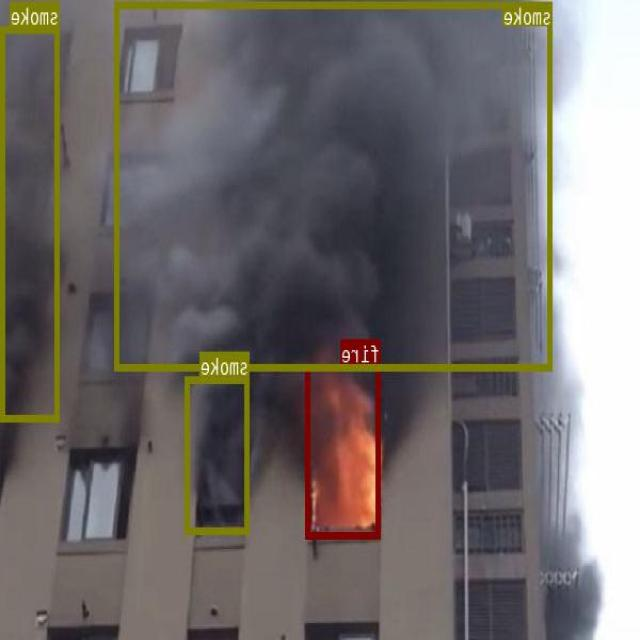fire: (307, 363, 382, 538)
smoke: (116, 2, 553, 370), (2, 25, 60, 419), (186, 376, 250, 533)
